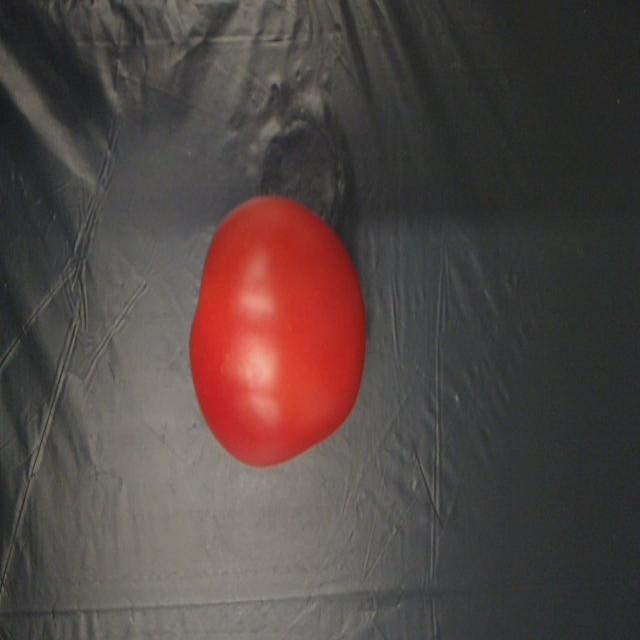kirmizi: (188, 191, 372, 478)
